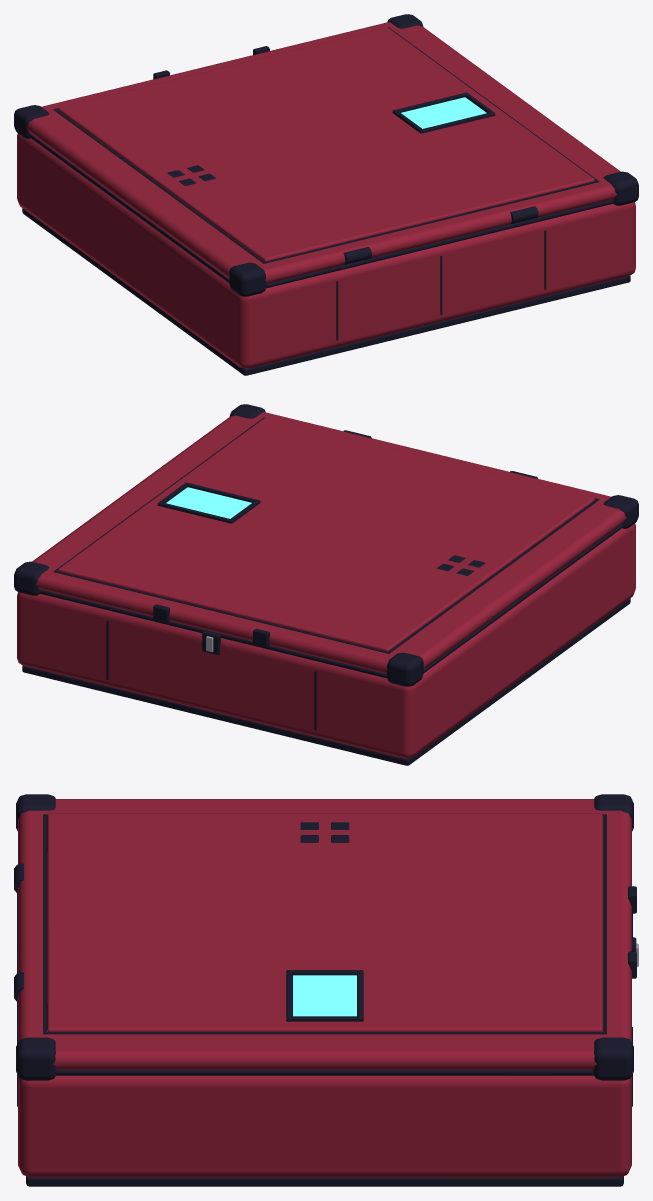
Rendered from roof.accent.w2.d2.v0.glb.
The picture shows the model from 3 angles, top to bottom: view 1: azimuth 30°, elevation 25°; view 2: azimuth 150°, elevation 25°; view 3: azimuth 270°, elevation 25°; orthographic projection. The views are drawn at different scales.
Visible parts, largest first — view 1: roof.accent.w2.d2.v0; view 2: roof.accent.w2.d2.v0; view 3: roof.accent.w2.d2.v0.
Part boxes in pixels (left/top/right/bottom): roof.accent.w2.d2.v0: left=14, top=14, right=638, bottom=375; roof.accent.w2.d2.v0: left=14, top=404, right=638, bottom=765; roof.accent.w2.d2.v0: left=14, top=794, right=638, bottom=1186.
Size of the model in its own units: 1.92 by 0.496 by 1.94.
